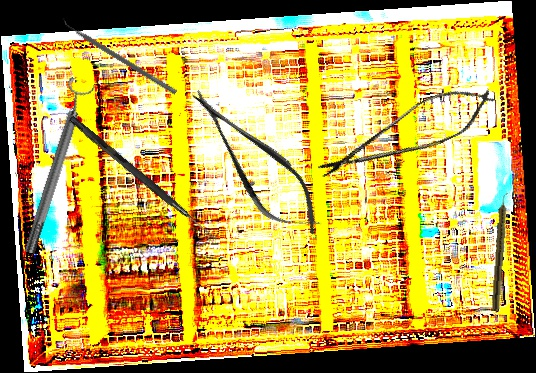Fixation Ring: (14, 76, 98, 257)
Handpiece: (491, 192, 510, 312)
Hook Surgical: (67, 115, 220, 242)
Micro Scissor: (174, 71, 337, 253), (311, 73, 502, 195)
Spatula Surgical: (58, 16, 181, 95)
